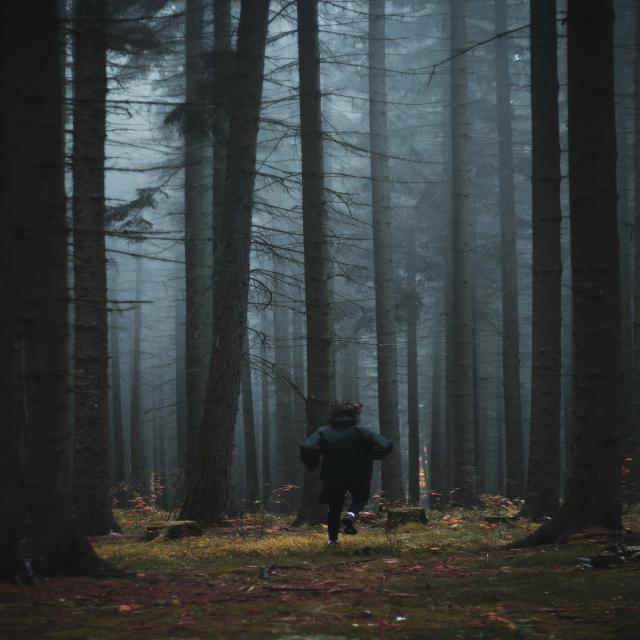adult: (300, 400, 392, 546)
